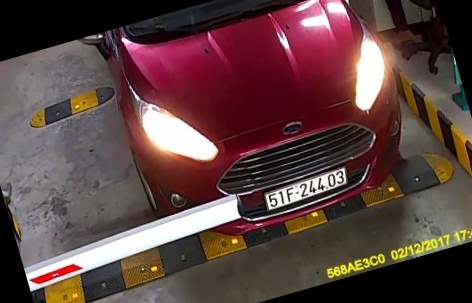plate: (258, 165, 350, 221)
